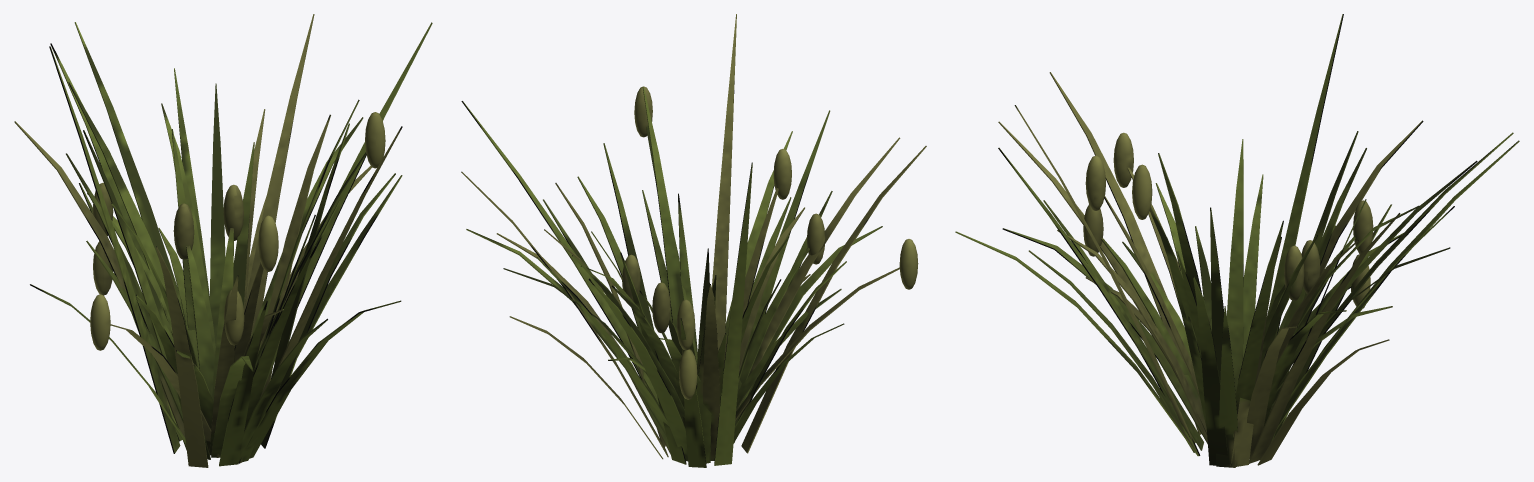
File: costa_capim_b.glb
The picture shows the model from 3 angles, left to right: view 1: azimuth 30°, elevation 25°; view 2: azimuth 150°, elevation 25°; view 3: azimuth 270°, elevation 25°; orthographic projection. The views are drawn at different scales.
Parts seen in each view (by area): view 1: costa_capim_b; view 2: costa_capim_b; view 3: costa_capim_b.
Boxes of the visible parts, box(x1,y1,x2,y2) form: costa_capim_b: box(14, 14, 432, 467); costa_capim_b: box(461, 14, 926, 467); costa_capim_b: box(955, 14, 1519, 467).
Size of the model in its own units: 1.17 by 1.03 by 1.38.
Materials: 1 (1 with a texture image).
